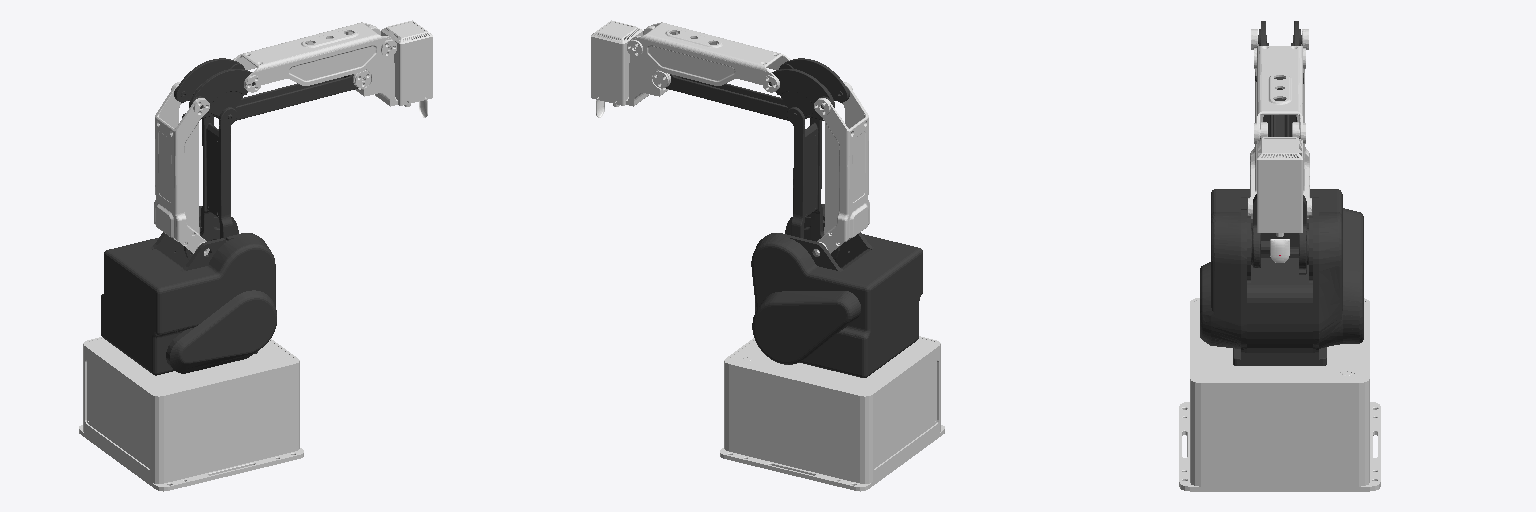
URDF robot description (mg400):
<?xml version="1.0" encoding="utf-8"?>
<!-- This URDF was automatically created by SolidWorks to URDF Exporter! Originally created by [author] ([email redacted]) 
     Commit Version: 1.6.0-1-g15f4949  Build Version: 1.6.7594.29634
     For more information, please see http://wiki.ros.org/sw_urdf_exporter -->
<robot name="mg400">
  <material name="TransparentRed">
    <color rgba="0.9 0 0.2 0.5"/>
  </material>
  <!-- Colors -->
  <material name="DarkGrey">
    <color rgba="0.3 0.3 0.3 1.0"/>
  </material>
  <material name="Grey">
    <color rgba="0.4 0.4 0.4 1.0"/>
  </material>
  <material name="Orange">
    <color rgba="1.0 0.423529411765 0.0392156862745 1.0"/>
  </material>
  <material name="Blue">
    <color rgba="0 0.1 1.0 1.0"/>
  </material>
  <material name="LightGrey">
    <color rgba="0.9 0.9 0.9 1.0"/>
  </material>
  <material name="Red">
    <color rgba="0.9 0 0.2 1.0"/>
  </material>
  <material name="TransparentRed">
    <color rgba="0.9 0 0.2 0.5"/>
  </material>
  <material name="Green">
    <color rgba="0 0.9 0.5 1.0"/>
  </material>
  <material name="Yellow">
    <color rgba="0.7 0.7 0 1.0"/>
  </material>
  <material name="LightBlue">
    <color rgba="0. 0.3 1.0 1.0"/>
  </material>
  <material name="Black">
    <color rgba="0.05 0.05 0.05 1.0"/>
  </material>
  <material name="White">
    <color rgba="1.0 1.0 1.0 1.0" />
  </material>

  
    <link name="base_link">
        <inertial>
            <origin xyz="0.000600637001378879 -2.53487071137343E-07 0.0560927888040551" rpy="0 0 0"/>
            <mass value="3.62164811695094"/>
            <inertia
                    ixx="0.0126582175296405"
                    ixy="6.66832041405407E-08"
                    ixz="-3.52548281362717E-06"
                    iyy="0.0145891535260188"
                    iyz="5.15901657460475E-08"
                    izz="0.0195045116656827"/>
        </inertial>
        <visual>
            <origin xyz="0 0 0" rpy="0 0 0"/>
            <geometry>
                <mesh filename="package://mg400/meshes/base_link.STL"/>
            </geometry>
            <material name="LightGrey"/>

        </visual>
        <collision>
            <origin xyz="0 0 0" rpy="0 0 0"/>
            <geometry>
                <mesh filename="package://mg400/meshes/base_link.STL"/>
            </geometry>
        </collision>
    </link>

    <link name="link1">
        <inertial>
            <origin xyz="-0.0046209286967387 -6.88107982318643E-05 0.0709919358465827" rpy="0 0 0"/>
            <mass value="1.77056222753813"/>
            <inertia
                    ixx="0.00605885293080088"
                    ixy="0.000156081820035162"
                    ixz="-0.00021785654850453"
                    iyy="0.00579381982249127"
                    iyz="6.20876898015621E-05"
                    izz="0.00741058257251941"/>
        </inertial>
        <visual>
            <origin xyz="0 0 0" rpy="0 0 0"/>
            <geometry>
                <mesh filename="package://mg400/meshes/link1.STL"/>
            </geometry>
            <material name="DarkGrey"/>
        </visual>
        <collision>
            <origin xyz="0 0 0" rpy="0 0 0"/>
            <geometry>
                <mesh filename="package://mg400/meshes/link1.STL"/>
            </geometry>
        </collision>
    </link>

    <joint name="j1" type="revolute">
        <origin xyz="-0.00500000000000002 0 0.109" rpy="0 0 0"/>
        <parent link="base_link"/>
        <child link="link1"/>
        <axis xyz="0 0 1"/>
        <limit lower="-3.14" upper="3.14" effort="0" velocity="0"/>
    </joint>

    <link name="link2_1">
        <inertial>
            <origin xyz="-0.00321788524756698 0.0352926570826593 0.0596131328734945" rpy="0 0 0"/>
            <mass value="0.0866115884541459"/>
            <inertia
                    ixx="0.000338551627157209"
                    ixy="-2.78858228577314E-09"
                    ixz="1.05212346076681E-05"
                    iyy="0.000307789653713489"
                    iyz="-1.36109590152488E-06"
                    izz="3.89949940178023E-05"/>
        </inertial>
        <visual>
            <origin xyz="0 0 0" rpy="0 0 0"/>
            <geometry>
                <mesh filename="package://mg400/meshes/link2_1.STL"/>
            </geometry>
            <material name="DarkGrey"/>
        </visual>
        <collision>
            <origin xyz="0 0 0" rpy="0 0 0"/>
            <geometry>
                <mesh filename="package://mg400/meshes/link2_1.STL"/>
            </geometry>
        </collision>
    </link>

    <joint name="j2_1" type="revolute">
        <origin xyz="0.0435007595118091 -0.0357748756218899 0.118995682641123" rpy="0 0 0"/>
        <parent link="link1"/>
        <child link="link2_1"/>
        <axis xyz="0 1 0"/>
        <limit lower="-3.14" upper="3.14" effort="0" velocity="0"/>
    </joint>

    <link name="link3_1">
        <inertial>
            <origin xyz="0.0821679417596488 0.000113044685842874 -0.00333758753063973" rpy="0 0 0"/>
            <mass value="0.0375214831045061"/>
            <inertia
                    ixx="2.54761091812684E-06"
                    ixy="3.73102654491378E-07"
                    ixz="-2.02625705871199E-06"
                    iyy="0.000164234314177935"
                    iyz="-1.44731096825347E-08"
                    izz="0.000164331500854172"/>
        </inertial>
        <visual>
            <origin xyz="0 0 0" rpy="0 0 0"/>
            <geometry>
                <mesh filename="package://mg400/meshes/link3_1.STL"/>
            </geometry>
            <material name="DarkGrey"/>
        </visual>
        <collision>
            <origin xyz="0 0 0" rpy="0 0 0"/>
            <geometry>
                <mesh filename="package://mg400/meshes/link3_1.STL"/>
            </geometry>
        </collision>
    </link>

    <joint name="j3_1" type="revolute">
        <origin xyz="-0.0010512570171516 0.0357748756218898 0.175001164344716" rpy="0 0 0"/>
        <parent link="link2_1"/>
        <child link="link3_1"/>
        <axis xyz="0 1 0"/>
        <limit lower="-3.14" upper="3.14" effort="0" velocity="0"/>
    </joint>

    <link name="link4_1">
        <inertial>
            <origin xyz="0.0387878182928232 0.0170848333998282 -0.0024610990490942" rpy="0 0 0"/>
            <mass value="0.0628979533925801"/>
            <inertia
                    ixx="4.78483605712844E-05"
                    ixy="1.42081909356751E-07"
                    ixz="8.32917079044309E-06"
                    iyy="5.42362047732042E-05"
                    iyz="-2.90608446019989E-08"
                    izz="3.36120409842199E-05"/>
        </inertial>
        <visual>
            <origin xyz="0 0 0" rpy="0 0 0"/>
            <geometry>
                <mesh filename="package://mg400/meshes/link4_1.STL"/>
            </geometry>
            <material name="LightGrey"/>
        </visual>
        <collision>
            <origin xyz="0 0 0" rpy="0 0 0"/>
            <geometry>
                <mesh filename="package://mg400/meshes/link4_1.STL"/>
            </geometry>
        </collision>
    </link>

    <joint name="j4_1" type="revolute">
        <origin xyz="0.174969784055705 -0.0170000000000335 0.00325187137614585" rpy="0 0 0"/>
        <parent link="link3_1"/>
        <child link="link4_1"/>
        <axis xyz="0 1 0"/>
        <limit lower="-3.14" upper="3.14" effort="0" velocity="0"/>
    </joint>

    <link name="link5">
        <inertial>
            <origin xyz="4.24246458685662E-07 3.08507851181768E-14 -0.0349688816440933" rpy="0 0 0"/>
            <mass value="0.0965276919819365"/>
            <inertia
                    ixx="4.98589992160928E-05"
                    ixy="-1.534865545378E-12"
                    ixz="3.46424449605658E-10"
                    iyy="4.98589881725446E-05"
                    iyz="-5.64890953414983E-17"
                    izz="2.130463008359E-05"/>
        </inertial>
        <visual>
            <origin xyz="0 0 0" rpy="0 0 0"/>
            <geometry>
                <mesh filename="package://mg400/meshes/link5.STL"/>
            </geometry>
            <material name="LightGrey"/>
        </visual>
        <collision>
            <origin xyz="0 0 0" rpy="0 0 0"/>
            <geometry>
                <mesh filename="package://mg400/meshes/link5.STL"/>
            </geometry>
        </collision>
    </link>

    <joint name="j5" type="revolute">
        <origin xyz="0.0659996239003897 0.0170000000000371 0.031000800715573" rpy="0 0 0"/>
        <parent link="link4_1"/>
        <child link="link5"/>
        <axis xyz="-1.19408295462994E-05 0 0.999999999928708"/>
        <limit lower="-3.14" upper="3.14" effort="0" velocity="0"/>
    </joint>

    <link name="link2_2">
        <inertial>
            <origin xyz="-0.0201111131723385 0.0304999635268521 0.073632809340276" rpy="0 0 0"/>
            <mass value="0.0662546292985346"/>
            <inertia
                    ixx="0.000218973873589181"
                    ixy="3.0147933007673E-10"
                    ixz="2.51402553227571E-06"
                    iyy="0.000200510070261609"
                    iyz="-1.41837669904595E-09"
                    izz="3.74316777806776E-05"/>
        </inertial>
        <visual>
            <origin xyz="0 0 0" rpy="0 0 0"/>
            <geometry>
                <mesh filename="package://mg400/meshes/link2_2.STL"/>
            </geometry>
            <material name="LightGrey"/>
        </visual>
        <collision>
            <origin xyz="0 0 0" rpy="0 0 0"/>
            <geometry>
                <mesh filename="package://mg400/meshes/link2_2.STL"/>
            </geometry>
        </collision>
    </link>

    <joint name="j2_2" type="revolute">
        <origin xyz="0.00452885682964267 -0.0305 0.141500000000001" rpy="0 0 0"/>
        <parent link="link1"/>
        <child link="link2_2"/>
        <axis xyz="0 1 0"/>
        <limit lower="-3.14" upper="3.14" effort="0" velocity="0"/>
    </joint>

    <link name="link3_2">
        <inertial>
            <origin xyz="0.0338566736074436 0.0240208873857428 0.00452229895926692" rpy="0 0 0"/>
            <mass value="0.0366692789294813"/>
            <inertia
                    ixx="7.24011830695354E-06"
                    ixy="7.93542746250724E-10"
                    ixz="-1.69163254472566E-06"
                    iyy="2.34967008246727E-05"
                    iyz="4.55507111386579E-10"
                    izz="1.66831643179488E-05"/>
        </inertial>
        <visual>
            <origin xyz="0 0 0" rpy="0 0 0"/>
            <geometry>
                <mesh filename="package://mg400/meshes/link3_2.STL"/>
            </geometry>
            <material name="DarkGrey"/>
        </visual>
        <collision>
            <origin xyz="0 0 0" rpy="0 0 0"/>
            <geometry>
                <mesh filename="package://mg400/meshes/link3_2.STL"/>
            </geometry>
        </collision>
    </link>

    <joint name="j3_2" type="revolute">
        <origin xyz="-0.00105049750546494 0.00649999999999986 0.174996846985851" rpy="0 0 0"/>
        <parent link="link2_2"/>
        <child link="link3_2"/>
        <axis xyz="0 1 0"/>
        <limit lower="-3.14" upper="3.14" effort="0" velocity="0"/>
    </joint>

    <link name="link4_2">
        <inertial>
            <origin xyz="0.0876391591012518 0.023499867452275 0.00831492252441945" rpy="0 0 0"/>
            <mass value="0.0453569016333092"/>
            <inertia
                    ixx="2.00037596001325E-05"
                    ixy="3.34474706250153E-09"
                    ixz="2.17594982354756E-07"
                    iyy="0.000132049841023893"
                    iyz="5.36978669669685E-10"
                    izz="0.000141813978894428"/>
        </inertial>
        <visual>
            <origin xyz="0 0 0" rpy="0 0 0"/>
            <geometry>
                <mesh filename="package://mg400/meshes/link4_2.STL"/>
            </geometry>
            <material name="LightGrey"/>
        </visual>
        <collision>
            <origin xyz="0 0 0" rpy="0 0 0"/>
            <geometry>
                <mesh filename="package://mg400/meshes/link4_2.STL"/>
            </geometry>
        </collision>
    </link>

    <joint name="j4_2" type="revolute">
        <origin xyz="0.0678965856063864 0.000500000000000073 0.0119719999403219" rpy="0 0 0"/>
        <parent link="link3_2"/>
        <child link="link4_2"/>
        <axis xyz="0 1 0"/>
        <limit lower="-3.14" upper="3.14" effort="0" velocity="0"/>
    </joint>

  <!--dummy joint-->
  <joint name="ee_joint" type="fixed">
    <parent link="link5"/>
    <child link="ee_link"/>
    <origin xyz="0 0 -0.065" rpy="0 0 0"/>
  </joint>

  <link name="ee_link">
    <visual>
      <origin rpy="0 0 0" xyz="0 0 0"/>
      <geometry>
        <sphere radius="0.005"/>
      </geometry>
        <material name="Red"/>
    </visual>
    <collision>
      <geometry>
        <sphere radius="0.001"/>
      </geometry>
      <origin rpy="0 0 0" xyz="0.0 0 0"/>
    </collision>
    <inertial>
      <mass value="0.0"/>
      <origin rpy="-3.14 0.0 1.57" xyz="0.0 0.0 0.0"/>
      <inertia ixx="0.001" ixy="0.0" ixz="0.0" iyy="0.001" iyz="0.0" izz="0.001"/>
    </inertial>
  </link>

      <!-- DIGIT -->
  <link
    name="digit_body_link">
    <inertial>
      <origin
        xyz="0.00443338071044421 -0.0140914049333968 4.96453152977634E-09+0.02"
        rpy="0 0 0" />
      <mass
        value="0.0077837104153161" />
      <inertia
        ixx="7.77176839696665E-07"
        ixy="-5.52554519832781E-09"
        ixz="-2.21347841658254E-13"
        iyy="1.5788930001559E-06"
        iyz="-8.96409493368731E-14"
        izz="1.05613167218354E-06" />
    </inertial>
    <visual>
      <origin
        xyz="0 0 0.02"
        rpy="0 0 0" />
      <geometry>
        <mesh
          filename="../digit/standard_digit/digit_asmb/meshes/digit_body.STL" />
      </geometry>
      <material
        name="digit_body">
        <color
          rgba="0.0 0.0 0.0 1" />
      </material>
    </visual>
    <collision>
      <origin
        xyz="0 0 0.02"
        rpy="0 0 0" />
      <geometry>
        <mesh
          filename="../digit/standard_digit/digit_asmb/meshes/digit_body.STL" />
      </geometry>
    </collision>
  </link>


      <joint name="digit_ee_joint" type="fixed">
        <parent link="ee_link"/>
        <child link="digit_body_link"/>
        <origin rpy="3.14 -1.57 0" xyz="0.0 0.0 -0.03"/>
      </joint>


  <link
    name="digit_tip_link">
    <inertial>
      <origin
        xyz="-2.15568578500849E-07 0.00554133274527847 -0.00576051345741577-0.02"
        rpy="0 0 0" />
      <mass
        value="0.00130411151086353" />
      <inertia
        ixx="5.48284140746448E-08"
        ixy="-4.02703926962539E-12"
        ixz="-5.29135712007007E-14"
        iyy="3.03790231207661E-08"
        iyz="-1.56642204167579E-10"
        izz="8.26200689636922E-08" />
    </inertial>
    <visual>
      <origin
        xyz="0 0 -0.02"
        rpy="0 0 0" />
      <geometry>
        <mesh
          filename="../digit/standard_digit/digit_asmb_hollow/meshes/digit_core.STL" scale="1.0 1.0 1.0"/>
      </geometry>
      <material
        name="digit_skin">
        <color
          rgba="1.0 1.0 1.0 1" />
      </material>
    </visual>
    <collision>
      <origin
        xyz="0 0 -0.02"
        rpy="0 0 0" />
      <geometry>
        <mesh
          filename="../digit/standard_digit/digit_asmb/meshes/digit_core.STL" />
      </geometry>
    </collision>
  </link>

  <joint
    name="digit_tip_to_body"
    type="fixed">
    <origin
      xyz="-0.00151521951809463 -1.36251105150219E-05 -0.00415"
      rpy="-3.14159265358979 0 1.5707963267949" />
    <parent
      link="digit_body_link" />
    <child
      link="digit_tip_link" />
    <axis
      xyz="0 0 0" />
  </joint>
      <!-- TCP -->
      <link name="tcp_link">
        <visual>
          <origin rpy="0 0 0" xyz="0 0 0"/>
          <geometry>
            <sphere radius="0.001"/>
          </geometry>
           <material name="TransparentRed"/>
        </visual>
        <inertial>
          <mass value="0.0"/>
          <origin rpy="0.0 0.0 1.57" xyz="0.0 0.0 0.0"/>
          <inertia ixx="1.0" ixy="0.0" ixz="0.0" iyy="1.0" iyz="0.0" izz="1.0"/>
        </inertial>
      </link>

      <joint name="tcp_joint" type="fixed">
        <parent link="digit_body_link"/>
        <child link="tcp_link"/>
        <origin rpy="1.57 0 -1.57" xyz="0.0007 0.0 0.025"/>
        <!-- <origin rpy="0 0 0" xyz="0.00145 0.0 0.025"/> -->
        <!-- <origin rpy="0 0 0" xyz="0.0018 0.0 0.025"/> -->
      </joint>


</robot>

--- Render facts (derived) ---
Views: 3 orthographic renders of the robot side by side, from view 1: azimuth 30°, elevation 25°; view 2: azimuth 150°, elevation 25°; view 3: azimuth 270°, elevation 25°.
Model mg400 with 13 links and 12 joints (8 revolute, 4 fixed), rooted at base_link, posed every joint at zero.
Links seen in each view (by area): view 1: base_link, link1, link2_2, link4_2, link4_1, link2_1, link3_2, link3_1; view 2: base_link, link1, link2_2, link4_2, link4_1, link2_1, link3_2, link3_1; view 3: base_link, link1, link4_1, link4_2, link2_2, link2_1.
Boxes of the visible links, x1,y1,x2,y2 form: base_link: [79, 337, 303, 491]; link1: [101, 206, 276, 375]; link2_2: [154, 82, 209, 255]; link4_2: [233, 22, 396, 92]; link4_1: [353, 20, 432, 106]; link2_1: [200, 107, 236, 241]; link3_2: [174, 58, 254, 118]; link3_1: [182, 74, 357, 120]; base_link: [720, 336, 944, 491]; link1: [751, 204, 922, 377]; link2_2: [814, 82, 869, 255]; link4_2: [627, 22, 790, 92]; link4_1: [591, 20, 670, 106]; link2_1: [787, 107, 823, 241]; link3_2: [769, 58, 849, 118]; link3_1: [666, 74, 823, 120]; base_link: [1179, 298, 1380, 491]; link1: [1200, 189, 1363, 365]; link4_1: [1257, 122, 1302, 232]; link4_2: [1254, 46, 1305, 143]; link2_2: [1248, 29, 1311, 218]; link2_1: [1251, 73, 1308, 274].
Bounding box of the posed robot: 0.3994 × 0.19 × 0.4597 m (x, y, z).
10 mesh visuals loaded from 11 distinct referenced files (10 binary STL); not drawn: 1 (reference not matched to a file when rendering).
